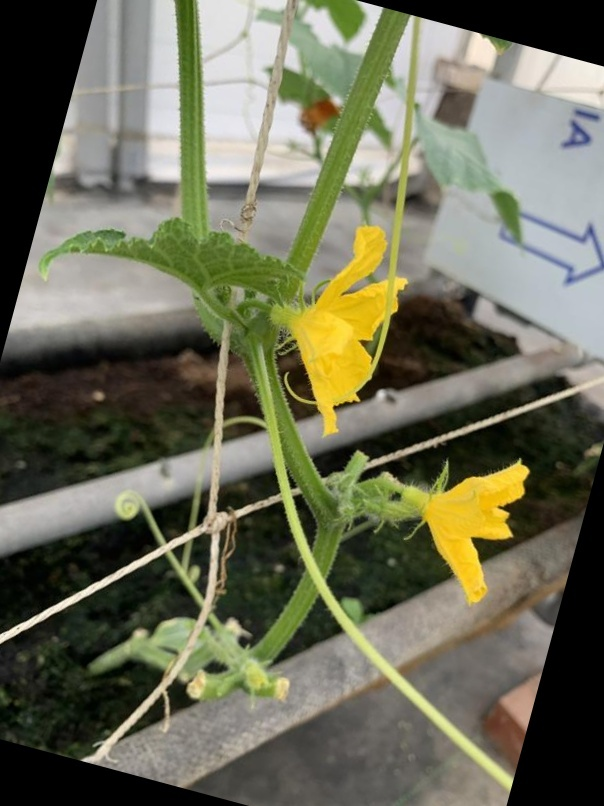flowering: (267, 219, 414, 426), (394, 440, 535, 604)
